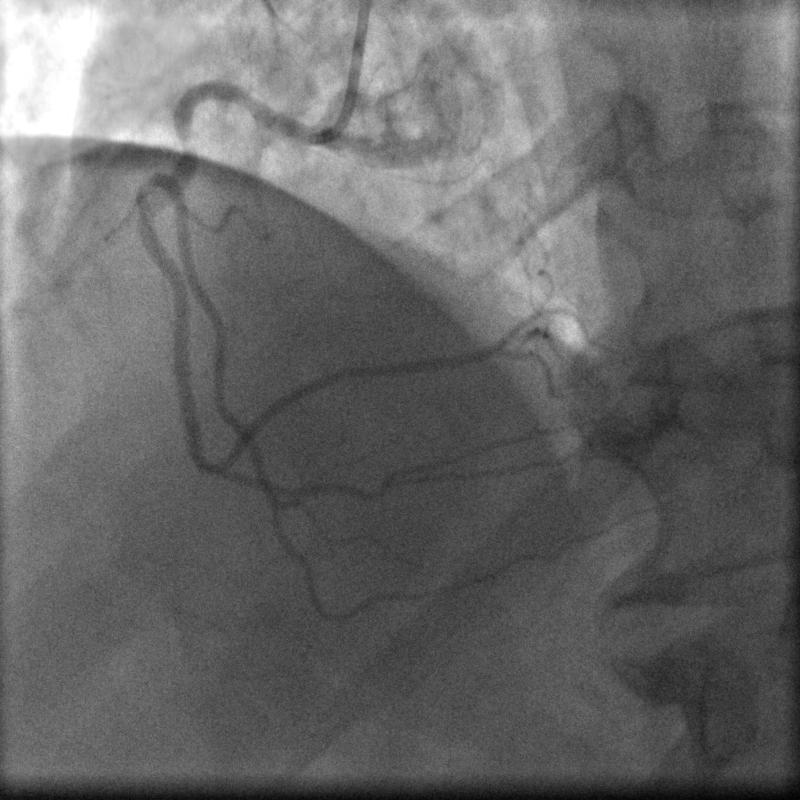Stenosis: (173, 132, 200, 162)
